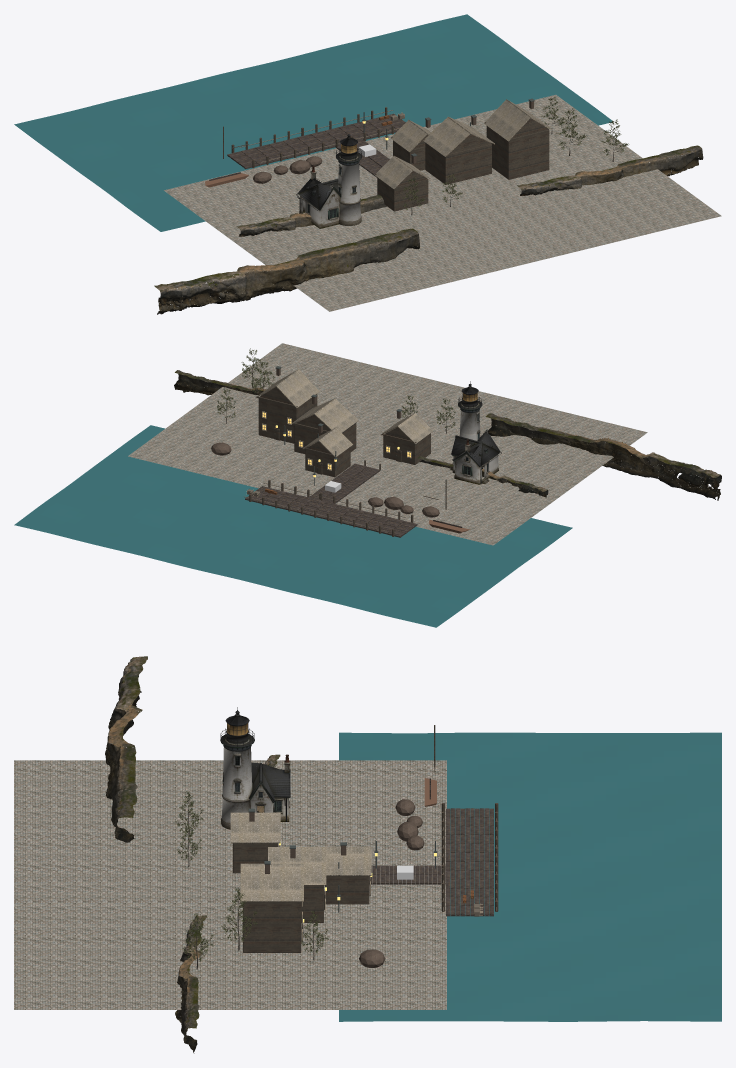
File: bellweather-harbor-v3.glb
3 renders of one model, top to bottom at view 1: azimuth 30°, elevation 25°; view 2: azimuth 150°, elevation 25°; view 3: azimuth 270°, elevation 25°, orthographic. The views are drawn at different scales.
Visible parts, largest first — view 1: Sculpted harbor water, Bellweather shore, CC0 scanned outer headland, Tripo Lighthouse and Keeper Cottage, Main wet timber pier, CC0 scanned coastal cliff east, Harbor rooms plaster body, Turner chandlery plaster body, CC0 scanned coastal cliff west, Net menders cottage plaster body, Harbor rooms repaired west slate roof, Turner chandlery repaired west slate roof (+4 smaller); view 2: Sculpted harbor water, Bellweather shore, CC0 scanned outer headland, Tripo Lighthouse and Keeper Cottage, Main wet timber pier, Harbor rooms plaster body, Boardwalk to the keeper street, CC0 scanned coastal cliff east, Net menders cottage plaster body, Harbor rooms repaired west slate roof, Tide office plaster body, Turner chandlery repaired west slate roof (+4 smaller); view 3: Bellweather shore, Sculpted harbor water, Main wet timber pier, Tripo Lighthouse and Keeper Cottage, CC0 scanned outer headland, Harbor rooms plaster body, Harbor rooms repaired east slate roof, CC0 scanned coastal cliff east, Net menders cottage repaired east slate roof, Turner chandlery repaired east slate roof, Tide office repaired east slate roof, Tide office plaster body (+4 smaller).
Boxes of the visible parts, x1,y1,x2,y2 form: Sculpted harbor water: (14, 14, 612, 231); Bellweather shore: (164, 94, 721, 311); CC0 scanned outer headland: (154, 228, 419, 314); Tripo Lighthouse and Keeper Cottage: (296, 134, 362, 228); Main wet timber pier: (227, 113, 405, 169); CC0 scanned coastal cliff east: (517, 145, 703, 195); Harbor rooms plaster body: (486, 118, 549, 179); Turner chandlery plaster body: (425, 135, 491, 184); CC0 scanned coastal cliff west: (236, 194, 386, 236); Net menders cottage plaster body: (377, 172, 428, 211); Harbor rooms repaired west slate roof: (484, 100, 530, 141); Turner chandlery repaired west slate roof: (423, 117, 469, 156); Sculpted harbor water: (14, 425, 572, 627); Bellweather shore: (128, 343, 647, 545); CC0 scanned outer headland: (486, 413, 721, 500); Tripo Lighthouse and Keeper Cottage: (450, 381, 501, 484); Main wet timber pier: (245, 486, 417, 537); Harbor rooms plaster body: (258, 387, 317, 443); Boardwalk to the keeper street: (309, 463, 380, 503); CC0 scanned coastal cliff east: (174, 370, 265, 395); Net menders cottage plaster body: (383, 427, 430, 464); Harbor rooms repaired west slate roof: (276, 370, 319, 408); Tide office plaster body: (305, 443, 350, 477); Turner chandlery repaired west slate roof: (314, 399, 358, 432); Bellweather shore: (14, 760, 446, 1009); Sculpted harbor water: (339, 732, 721, 1021); Main wet timber pier: (446, 808, 493, 916); Tripo Lighthouse and Keeper Cottage: (220, 707, 290, 829); CC0 scanned outer headland: (105, 656, 147, 842); Harbor rooms plaster body: (243, 901, 301, 952); Harbor rooms repaired east slate roof: (240, 863, 303, 901); CC0 scanned coastal cliff east: (175, 915, 206, 1053); Net menders cottage repaired east slate roof: (230, 812, 280, 843); Turner chandlery repaired east slate roof: (268, 847, 326, 885); Tide office repaired east slate roof: (323, 846, 371, 875); Tide office plaster body: (325, 876, 369, 904).
Bounding box in the file's own units: 102 × 17.91 × 85.
Materials: 17 (10 with a texture image).
